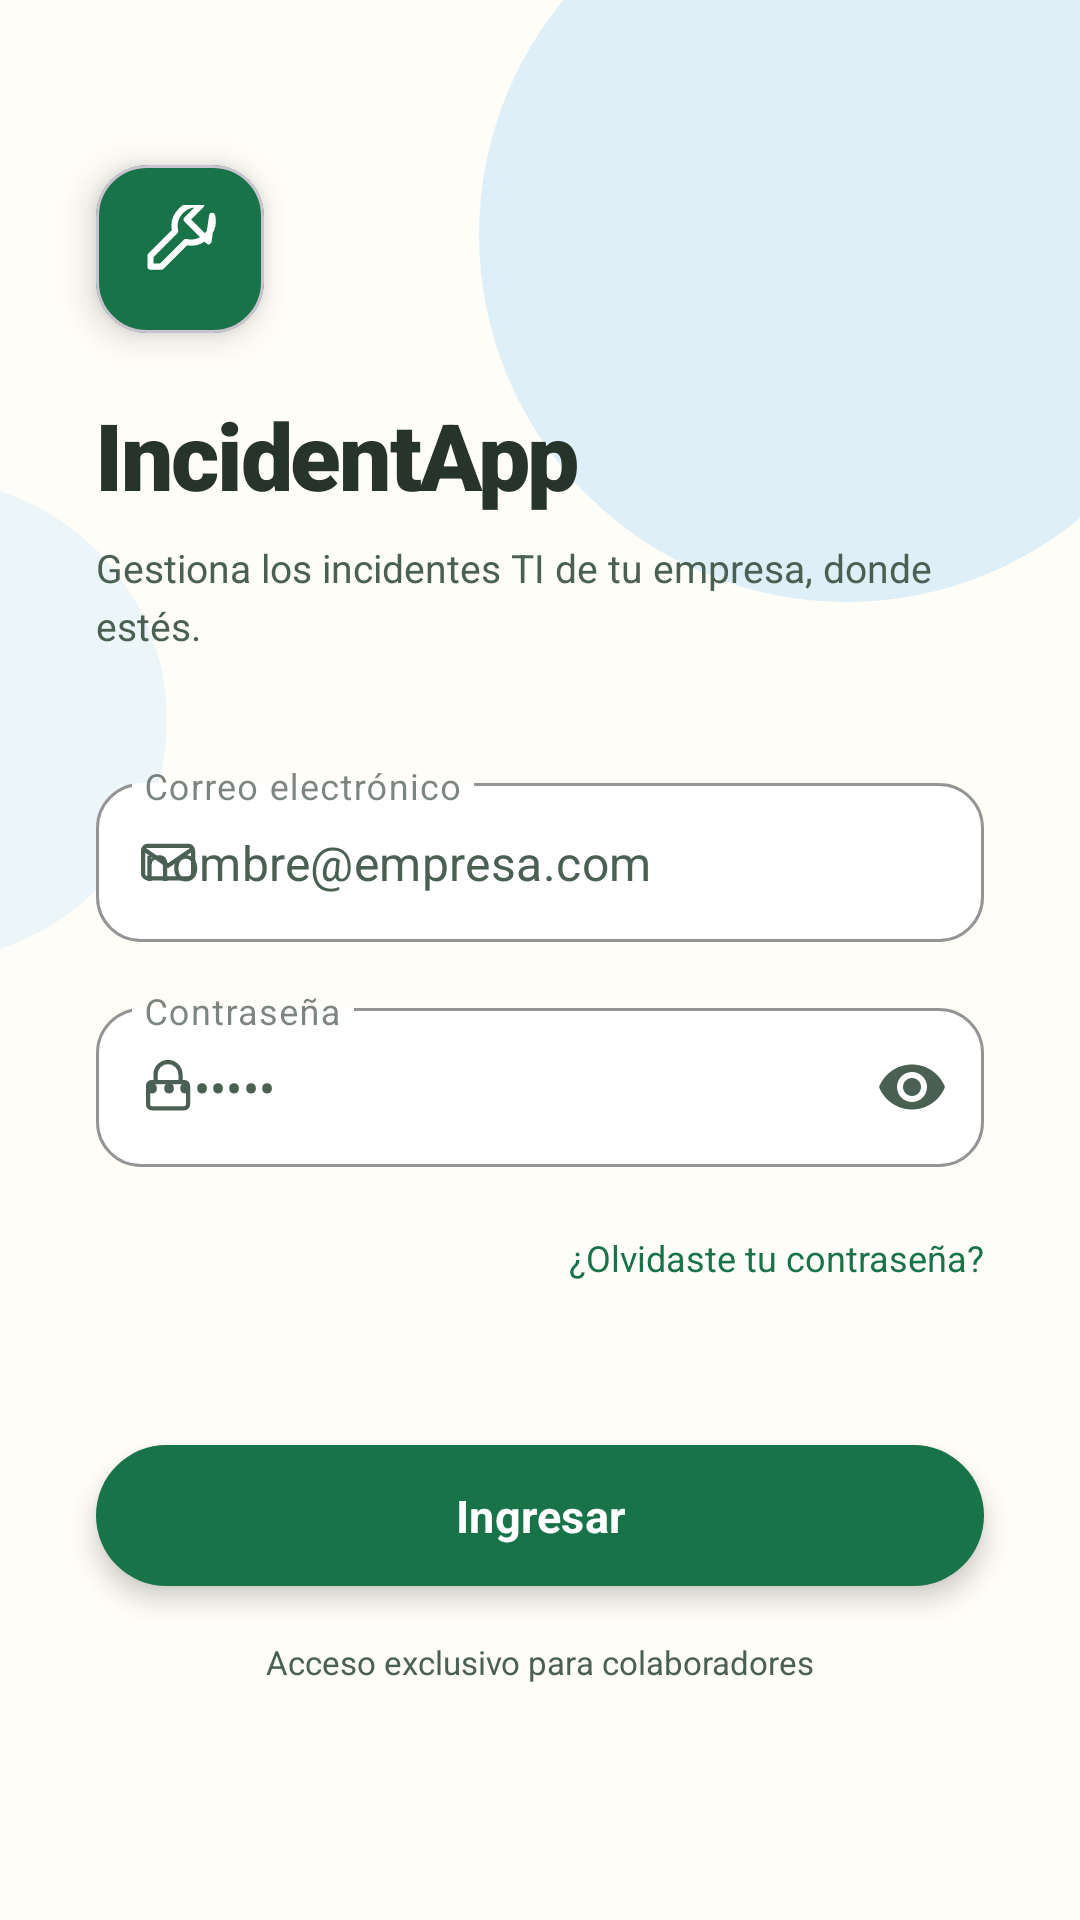

Screen size 1080 × 1920. Icon name, then its center in pixels as [x,y]:
tool simple: [181,237]
